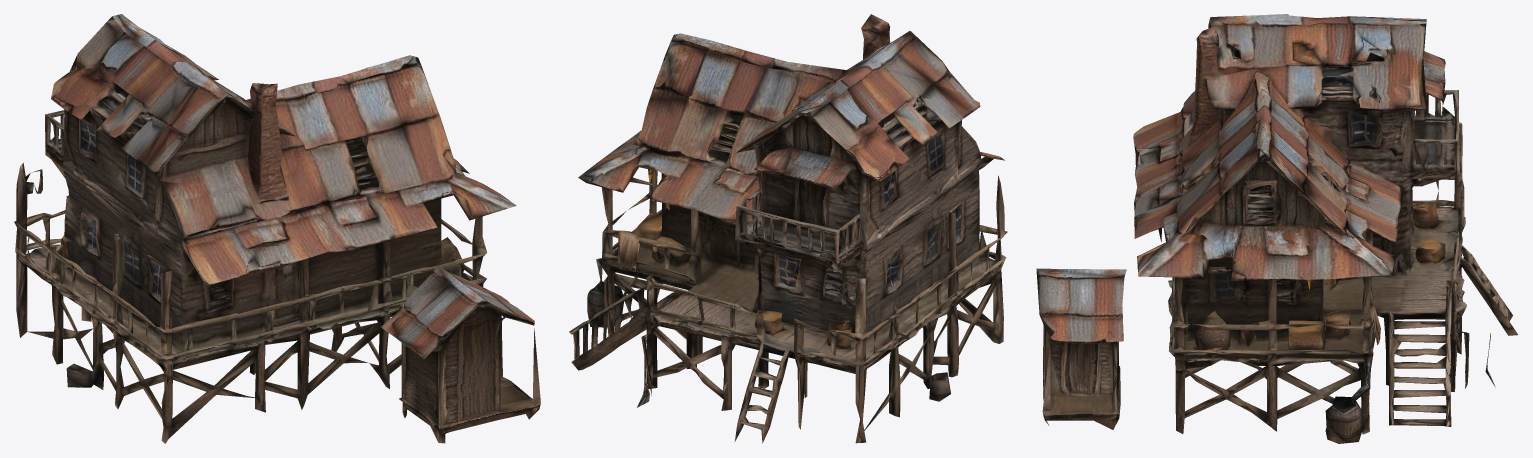
Rendered from rusty_roof_house.glb.
3 views of the same model, side by side, from view 1: azimuth 30°, elevation 25°; view 2: azimuth 150°, elevation 25°; view 3: azimuth 270°, elevation 25° (orthographic). The views are drawn at different scales.
Visible parts, largest first — view 1: tripo_node_061da3ff-bec8-4e60-99f3-9d0be3173c1c; view 2: tripo_node_061da3ff-bec8-4e60-99f3-9d0be3173c1c; view 3: tripo_node_061da3ff-bec8-4e60-99f3-9d0be3173c1c.
Part boxes in pixels (box(x1,y1,x2,y2)): tripo_node_061da3ff-bec8-4e60-99f3-9d0be3173c1c: box(14, 14, 540, 443); tripo_node_061da3ff-bec8-4e60-99f3-9d0be3173c1c: box(569, 14, 1007, 443); tripo_node_061da3ff-bec8-4e60-99f3-9d0be3173c1c: box(1036, 14, 1517, 443).
Bounding box in the file's own units: 0.8461 × 0.7097 × 0.9986.
Materials: 1 (1 with a texture image).
